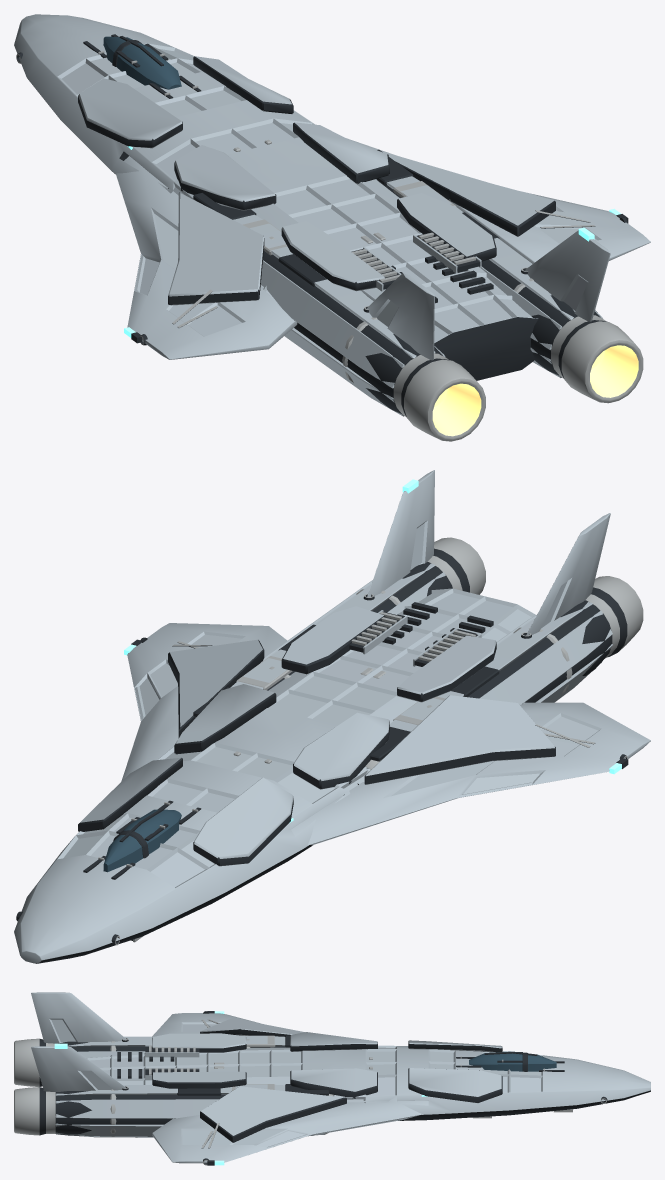
The model's file is harrier.glb.
3 renders of one model, top to bottom at view 1: azimuth 30°, elevation 25°; view 2: azimuth 150°, elevation 25°; view 3: azimuth 270°, elevation 25°, orthographic. The views are drawn at different scales.
Visible parts, largest first — view 1: Hull_Harrier; view 2: Hull_Harrier; view 3: Hull_Harrier.
Boxes of the visible parts, box(x1,y1,x2,y2) form: Hull_Harrier: box(14, 14, 650, 441); Hull_Harrier: box(14, 470, 650, 963); Hull_Harrier: box(14, 992, 650, 1165).
Bounding box in the file's own units: 53.03 × 15.19 × 94.5.
